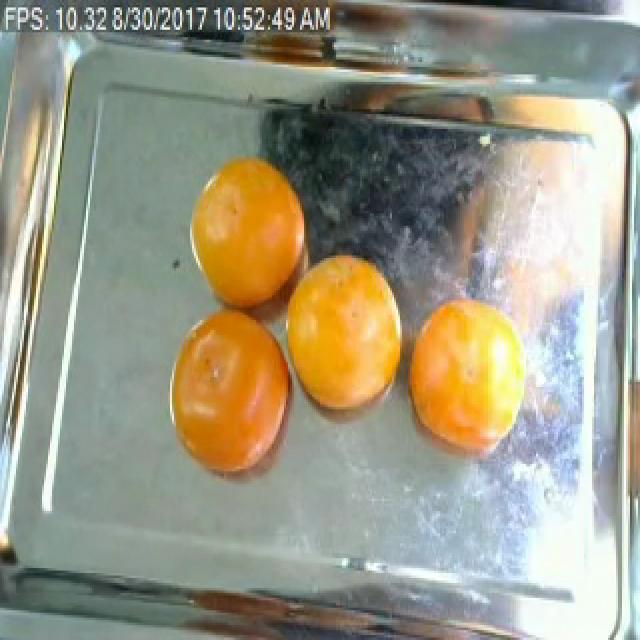Fruit: (390, 273, 536, 481), (156, 295, 300, 504), (274, 236, 414, 439), (178, 142, 324, 322)
